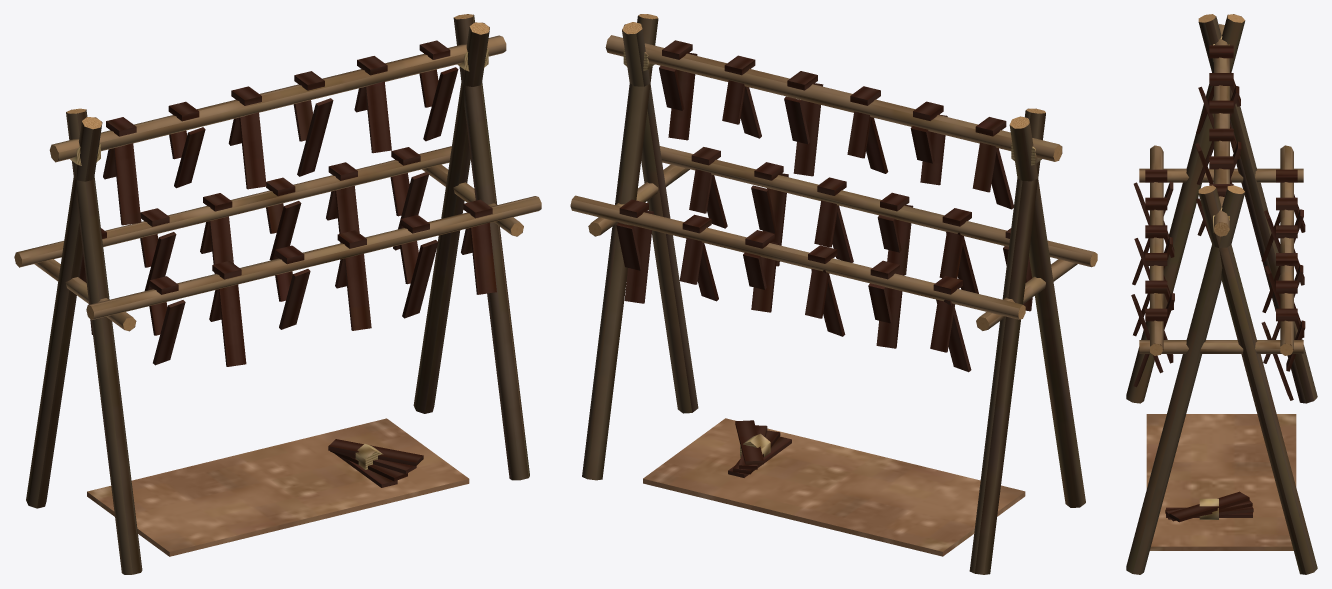
File: drying_rack_dried.glb
3 renders of one model, left to right at view 1: azimuth 30°, elevation 25°; view 2: azimuth 150°, elevation 25°; view 3: azimuth 270°, elevation 25°, orthographic. The views are drawn at different scales.
Visible parts, largest first — view 1: drying_rack_dried; view 2: drying_rack_dried; view 3: drying_rack_dried.
Boxes of the visible parts, box(x1,y1,x2,y2) form: drying_rack_dried: box(14, 14, 541, 574); drying_rack_dried: box(570, 14, 1097, 574); drying_rack_dried: box(1126, 14, 1317, 574).
Size of the model in its own units: 1.94 by 1.76 by 0.7939.
Materials: 1 (1 with a texture image).
